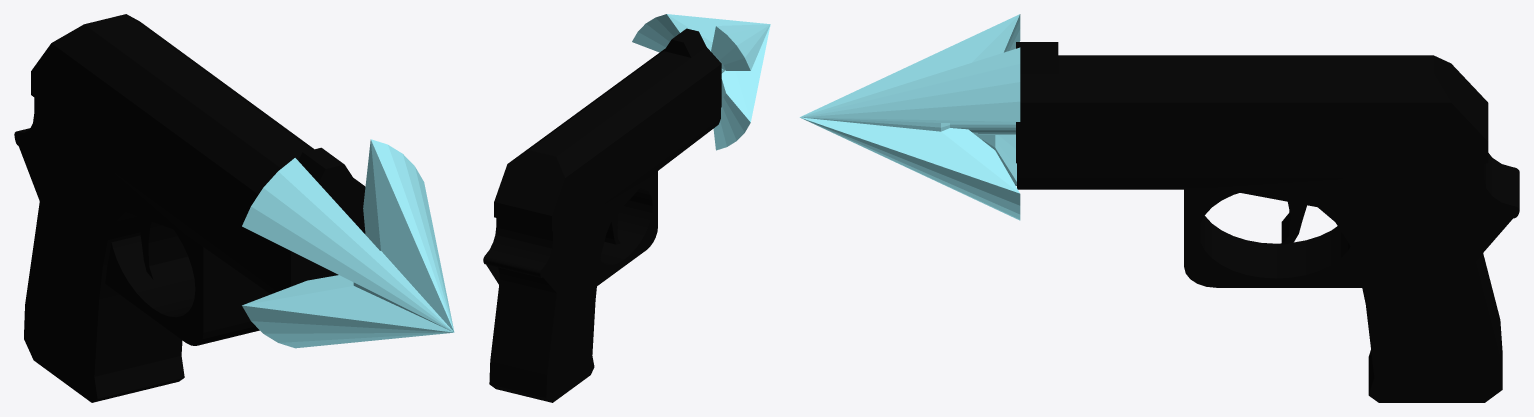
The model's file is Gan.fbx.
3 views of the same model, side by side, from view 1: azimuth 30°, elevation 25°; view 2: azimuth 150°, elevation 25°; view 3: azimuth 270°, elevation 25° (orthographic). The views are drawn at different scales.
Visible parts, largest first — view 1: 立方体.001, 立方体, 円錐.001, 立方体.002, 立方体.003; view 2: 立方体, 立方体.001, 円錐.001, 立方体.002, 立方体.003; view 3: 立方体.001, 立方体, 円錐.001, 立方体.002, 立方体.003, 円柱.
Part boxes in pixels (x1,y1,x2,y2): 立方体.001: (31,14,365,284); 立方体: (14,97,338,402); 円錐.001: (242,139,454,348); 立方体.002: (105,230,270,345); 立方体.003: (137,216,192,279); 立方体: (483,108,720,402); 立方体.001: (494,28,721,231); 円錐.001: (632,14,770,150); 立方体.002: (597,171,657,285); 立方体.003: (604,212,620,244); 立方体.001: (1016,42,1488,163); 立方体: (1017,153,1519,402); 円錐.001: (799,14,1020,220); 立方体.002: (1184,188,1361,287); 立方体.003: (1281,202,1306,244); 円柱: (950,122,1015,134).
Bounding box in the file's own units: 63.18 × 129 × 238.
